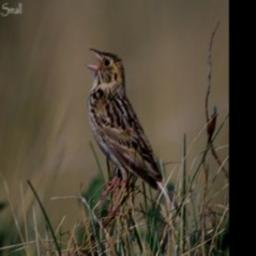Sparrow: (81, 43, 185, 229)
